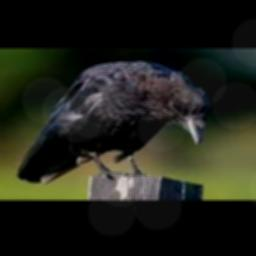Crow: (15, 60, 208, 184)
